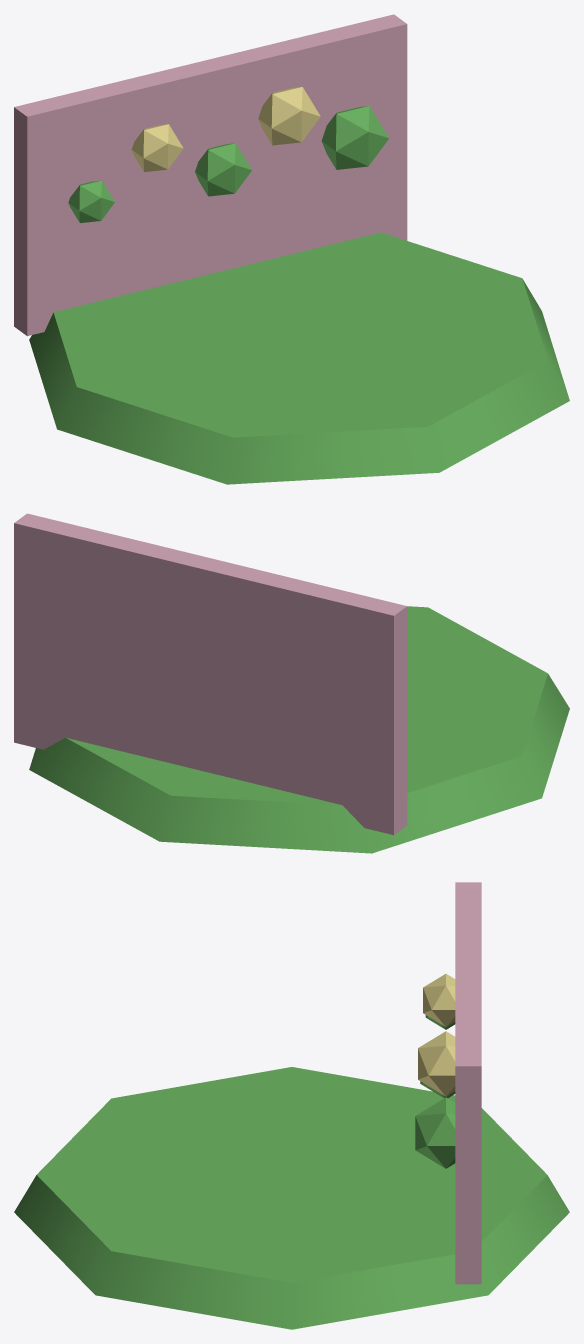
Rendered from stage.glb.
The picture shows the model from 3 angles, top to bottom: view 1: azimuth 30°, elevation 25°; view 2: azimuth 150°, elevation 25°; view 3: azimuth 270°, elevation 25°; orthographic projection.
Parts seen in each view (by area): view 1: stage_base, stage_backdrop, stage_emblem_4, stage_emblem_3, stage_emblem_2, stage_emblem_1, stage_emblem_0; view 2: stage_backdrop, stage_base; view 3: stage_base, stage_backdrop, stage_emblem_4, stage_emblem_3, stage_emblem_1.
Part boxes in pixels (<box>): stage_base: <box>29,232,569,484</box>; stage_backdrop: <box>14,14,407,336</box>; stage_emblem_4: <box>321,106,389,169</box>; stage_emblem_3: <box>258,87,320,145</box>; stage_emblem_2: <box>195,143,251,196</box>; stage_emblem_1: <box>131,124,183,171</box>; stage_emblem_0: <box>68,180,114,223</box>; stage_backdrop: <box>14,513,407,835</box>; stage_base: <box>29,606,569,853</box>; stage_base: <box>14,1067,569,1329</box>; stage_backdrop: <box>455,882,481,1284</box>; stage_emblem_4: <box>415,1097,455,1168</box>; stage_emblem_3: <box>418,1031,455,1096</box>; stage_emblem_1: <box>423,974,455,1026</box>.
Size of what is drawn, in the model's own units: 7.4 by 3.5 by 7.4.
